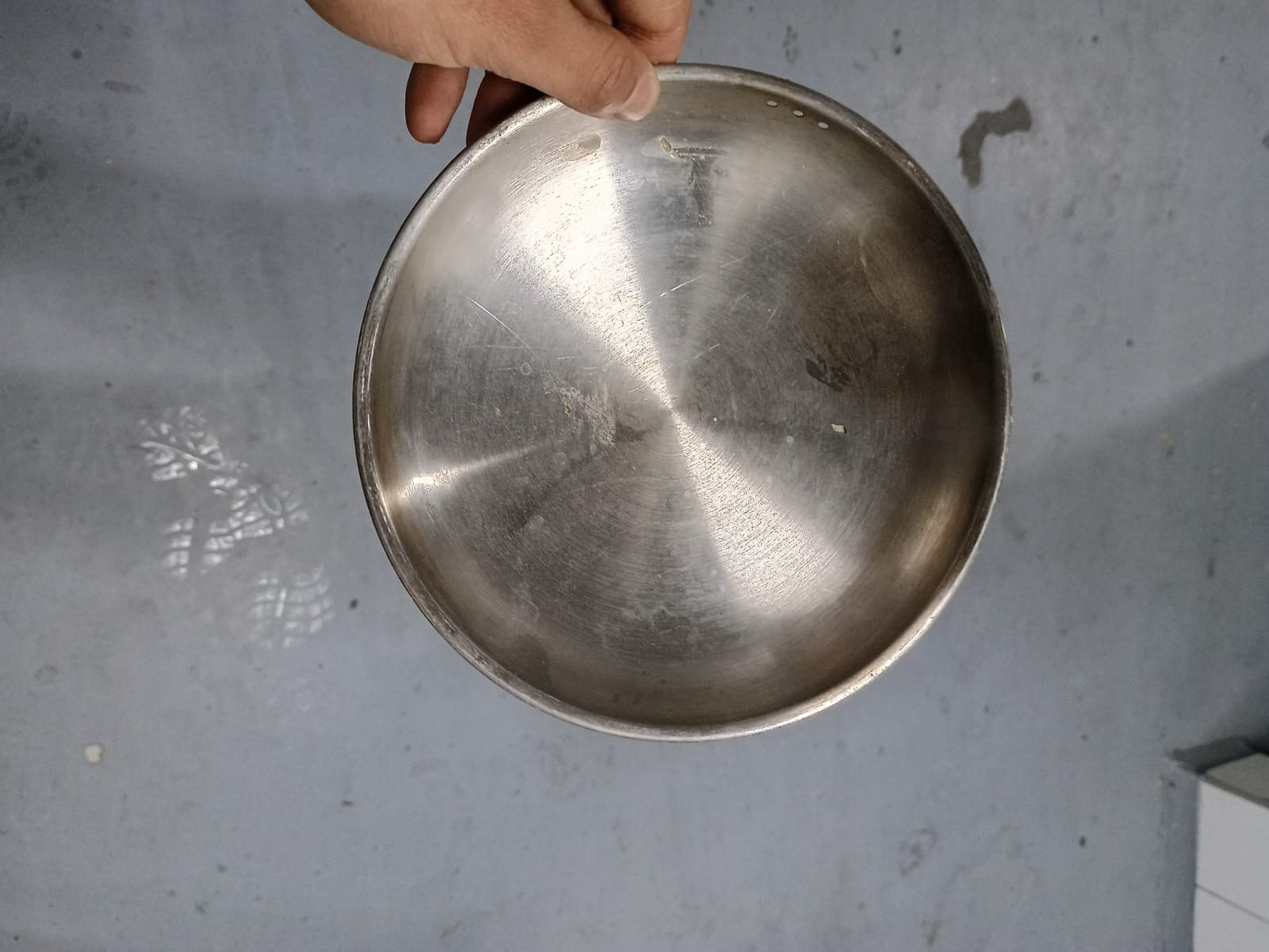Metal: (348, 69, 1014, 744)
